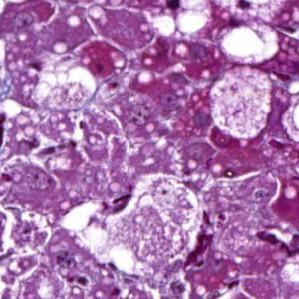ballooning: (29, 57, 98, 112)
